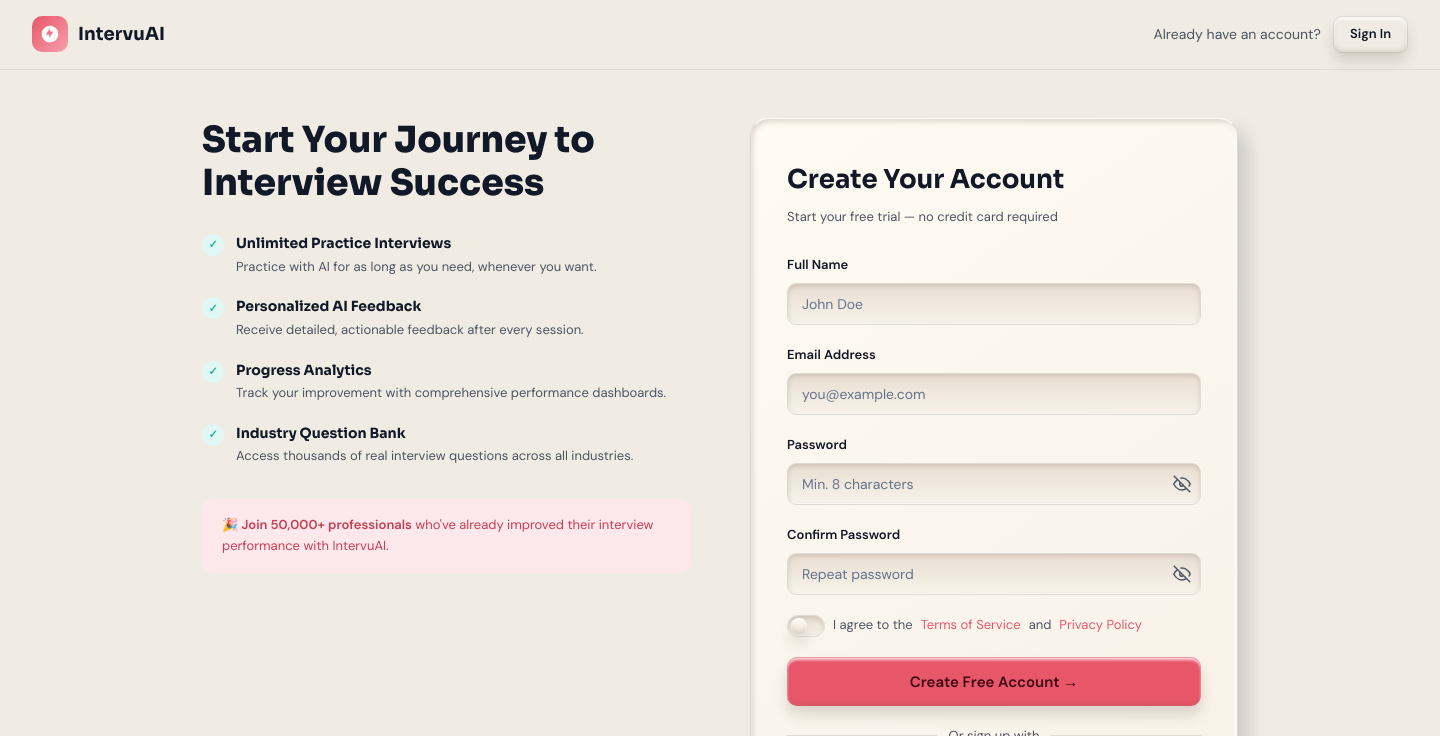
RegisterPage › shows password mismatch error on blur
Type "Password123!" into the password field with placeholder "Min. 8 characters" at (994, 484), box [787, 463, 1201, 505]
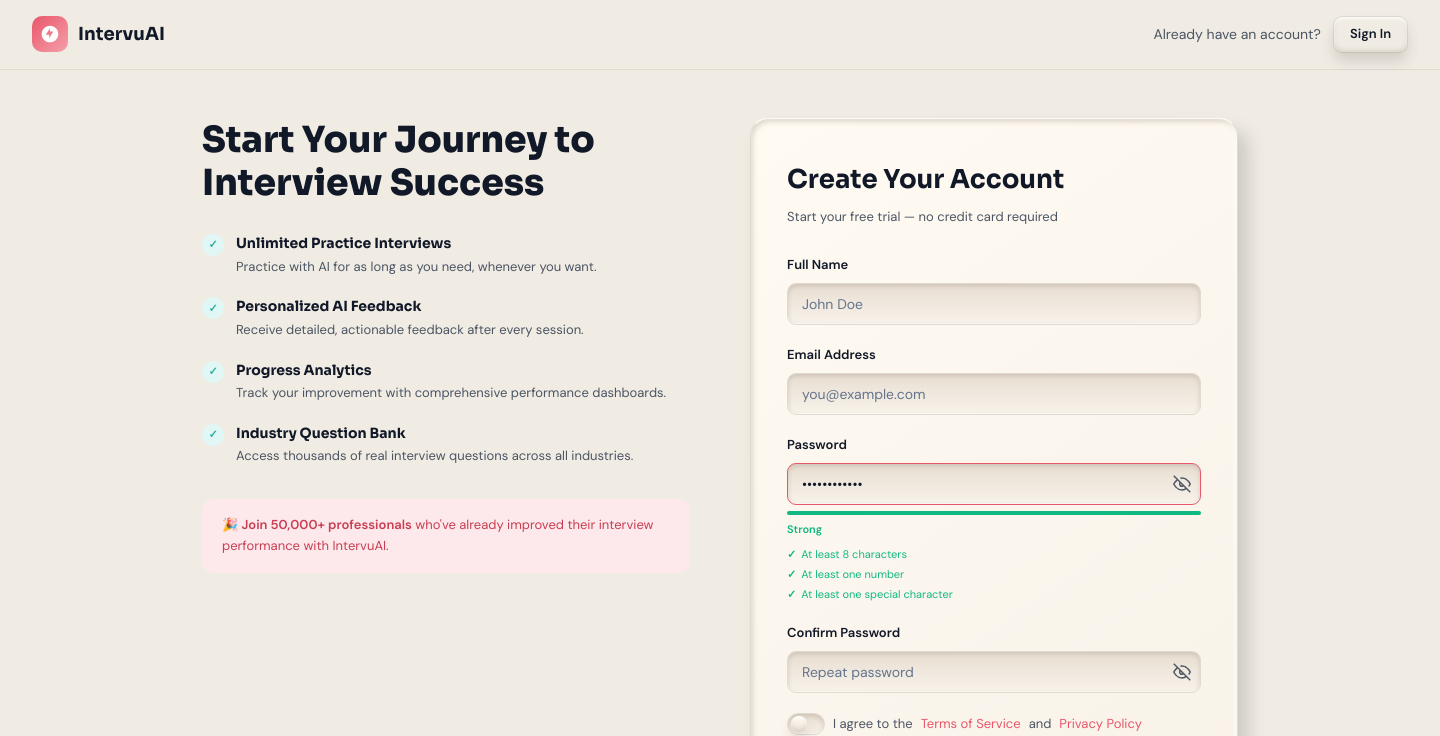
Type "DifferentPass!" into the password field with placeholder "Repeat password" at (994, 672), box [787, 651, 1201, 693]
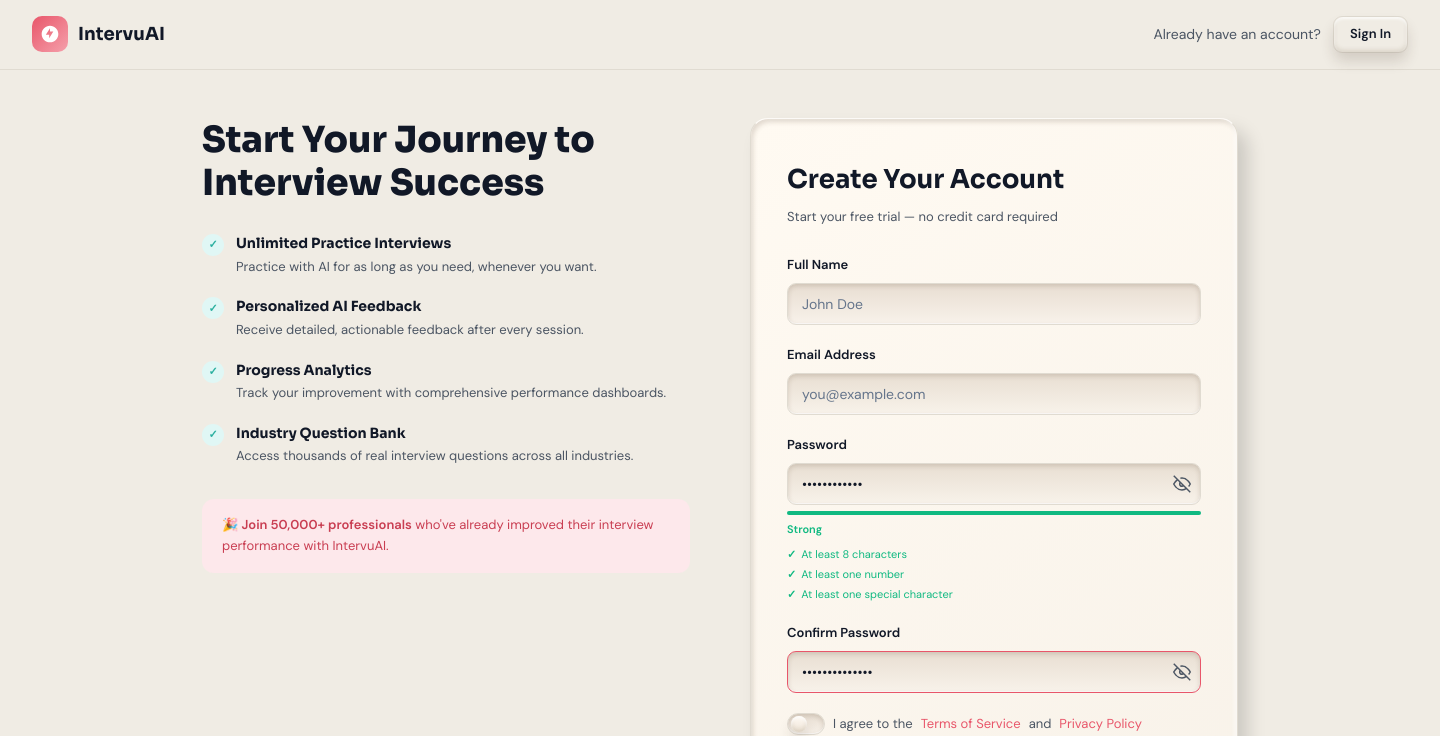
Press Tab
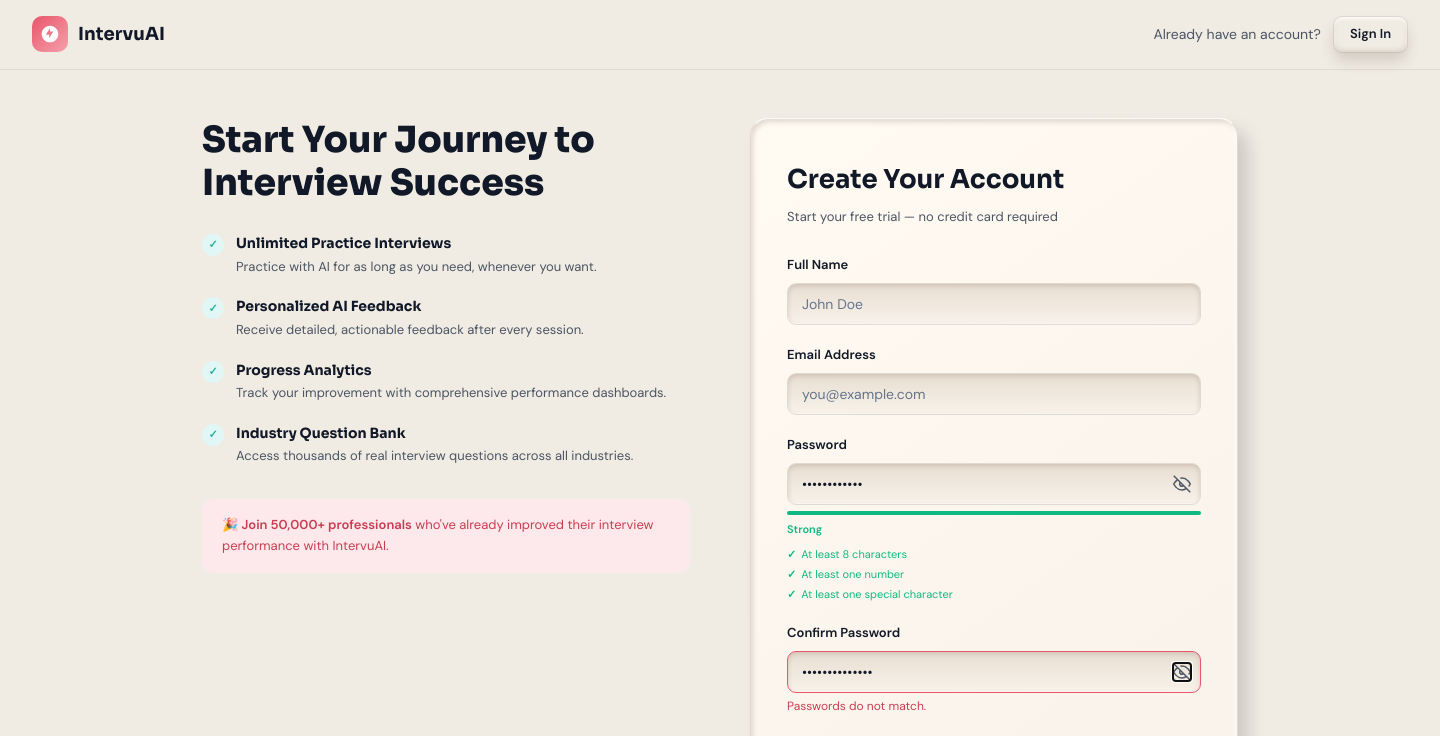
Expected: the text "Passwords do not match." is shown, [787, 698, 926, 714]
